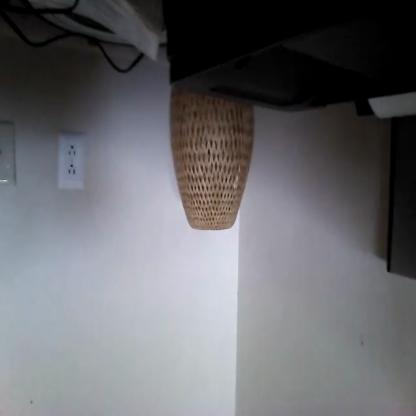OUTLET: (58, 134, 86, 190)
